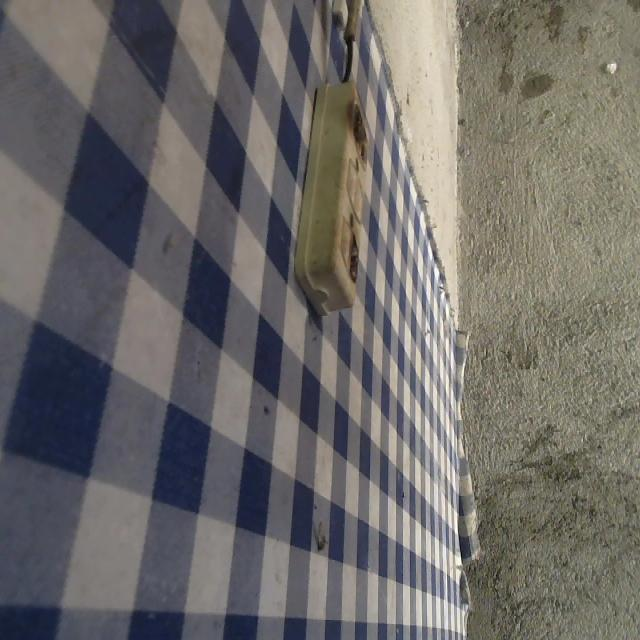-: (345, 100, 370, 164), (346, 229, 361, 288)
